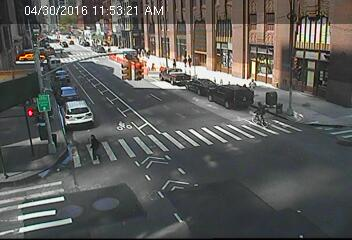neg: (118, 102, 145, 138), (291, 36, 316, 69), (53, 63, 74, 90), (26, 93, 47, 120), (98, 84, 114, 106), (7, 153, 23, 173), (85, 65, 100, 84), (19, 87, 33, 105), (157, 108, 169, 124), (194, 25, 204, 39), (108, 29, 118, 42), (145, 22, 155, 35), (96, 39, 106, 51), (218, 25, 227, 38), (251, 24, 260, 37)
pos: (83, 132, 105, 161), (252, 100, 269, 122), (247, 78, 260, 95), (170, 56, 181, 69), (179, 54, 189, 66), (186, 55, 195, 67)
